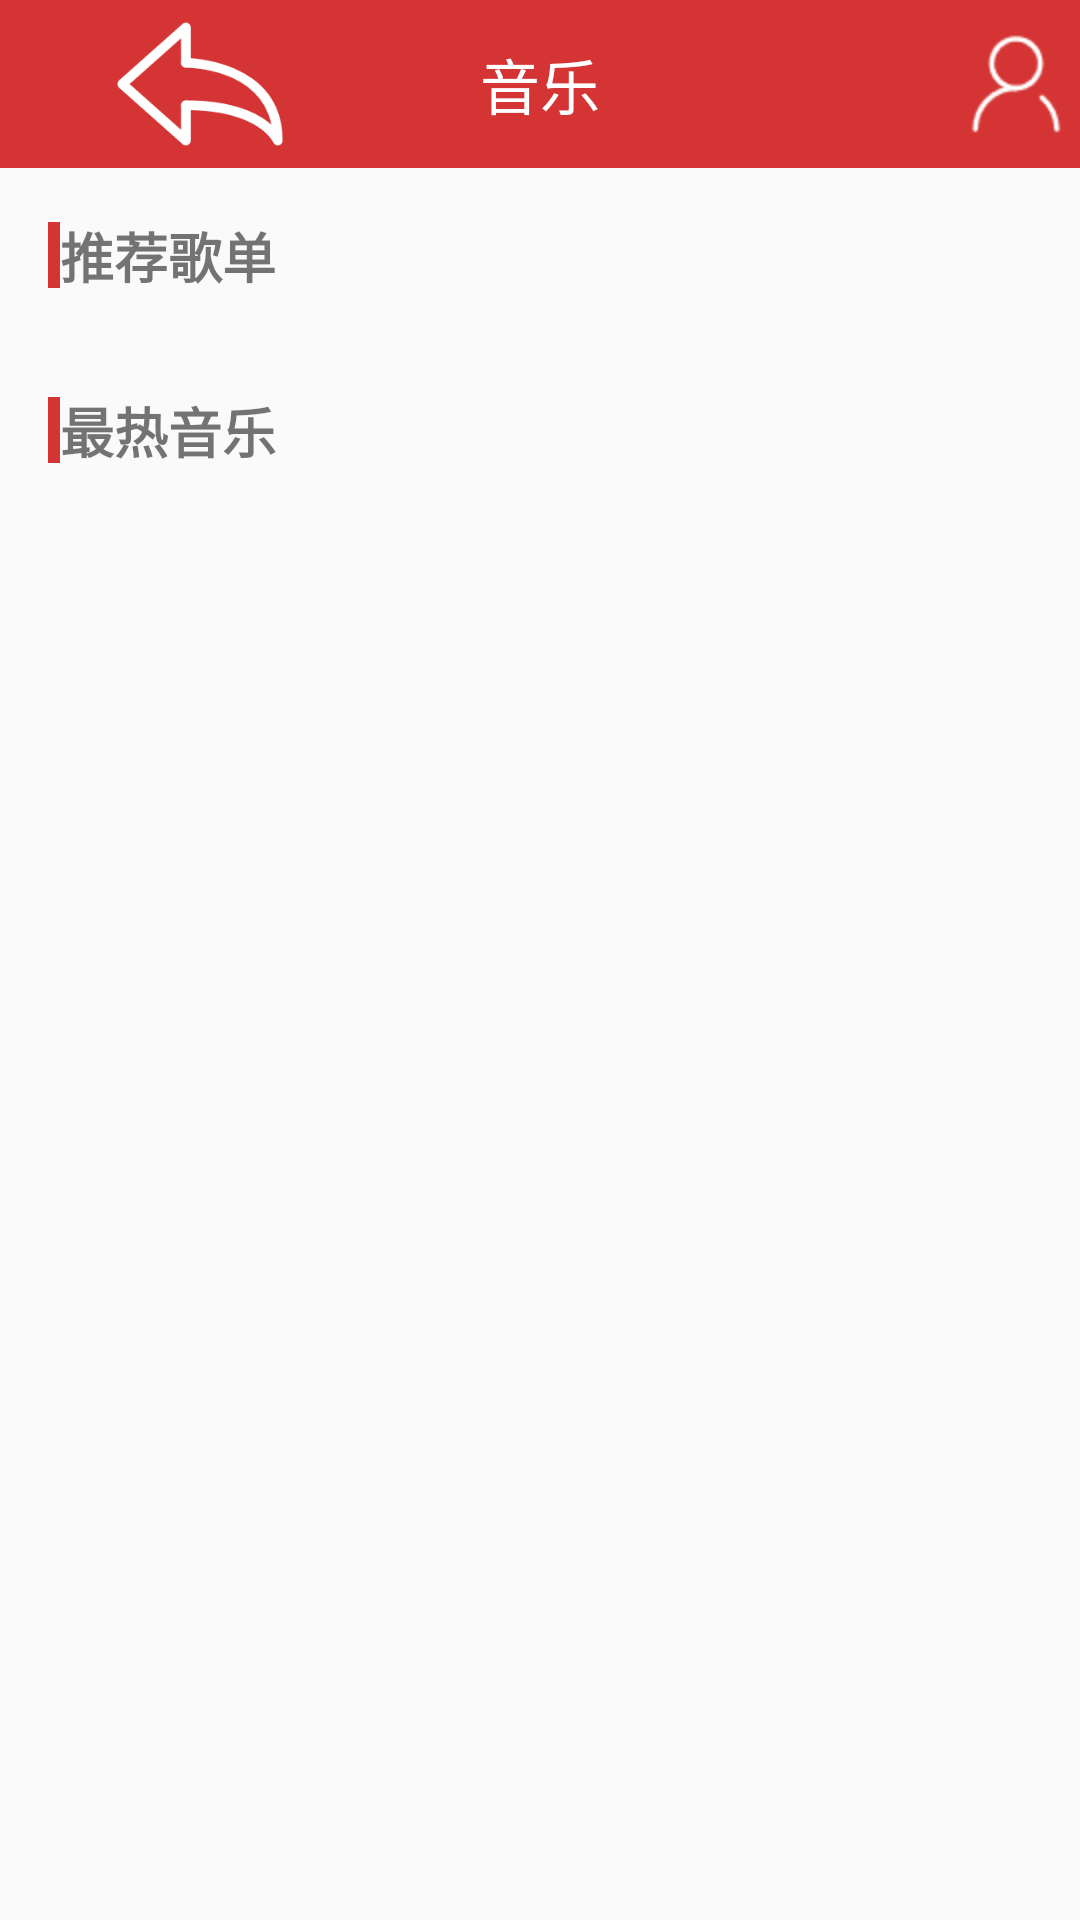

Where to tap for icons on this 1080w x 1920h app screen, as (x,y):
back: (200,84)
